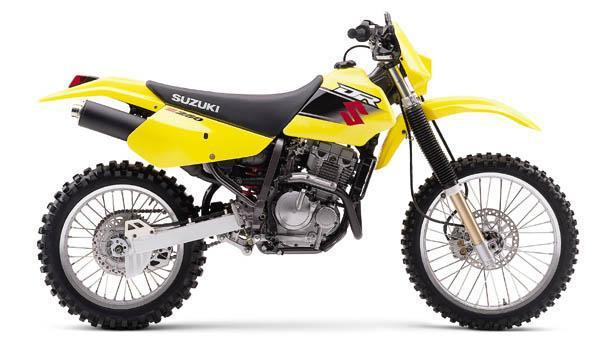motorcycle: (26, 7, 596, 350)
